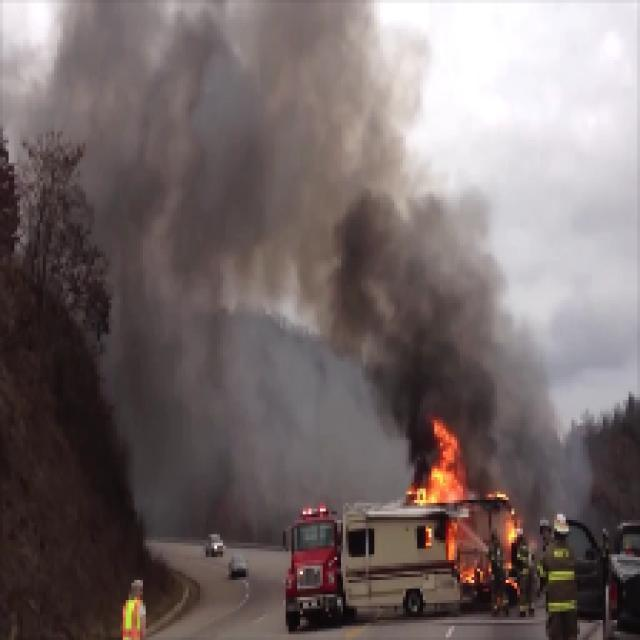Fire: (420, 426, 466, 494)
Smoke: (121, 65, 393, 240), (363, 268, 492, 397)
